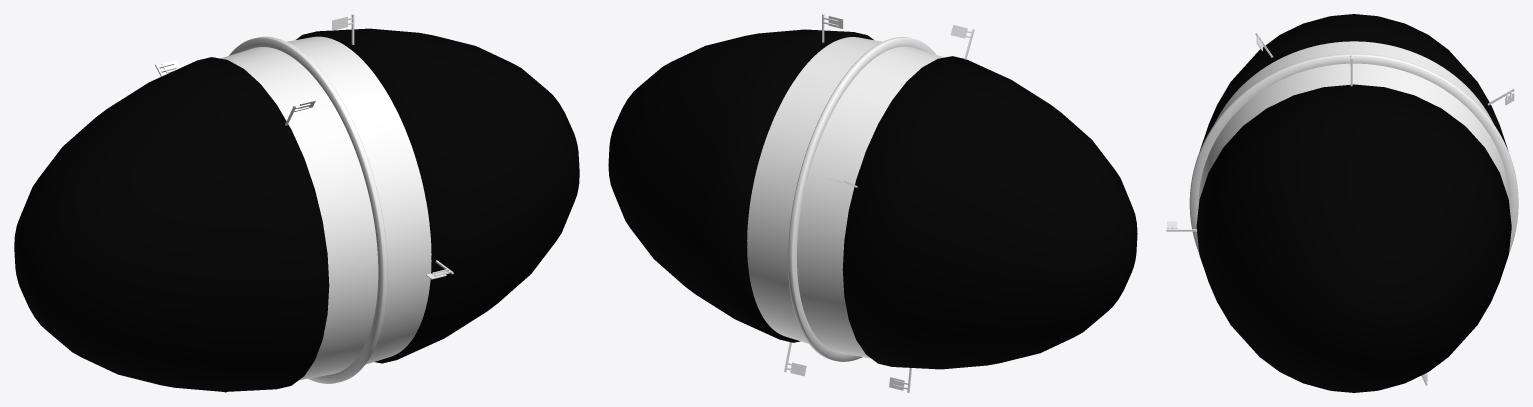
File: SM_Road.fbx
The picture shows the model from 3 angles, left to right: view 1: azimuth 30°, elevation 25°; view 2: azimuth 150°, elevation 25°; view 3: azimuth 270°, elevation 25°; orthographic projection. The views are drawn at different scales.
Visible parts, largest first — view 1: SM_Road; view 2: SM_Road; view 3: SM_Road.
Boxes of the visible parts, <box> form: SM_Road: <box>14,28,579,391</box>; SM_Road: <box>608,29,1137,369</box>; SM_Road: <box>1189,14,1518,392</box>.
Size of the model in its own units: 1034 by 667 by 629.
